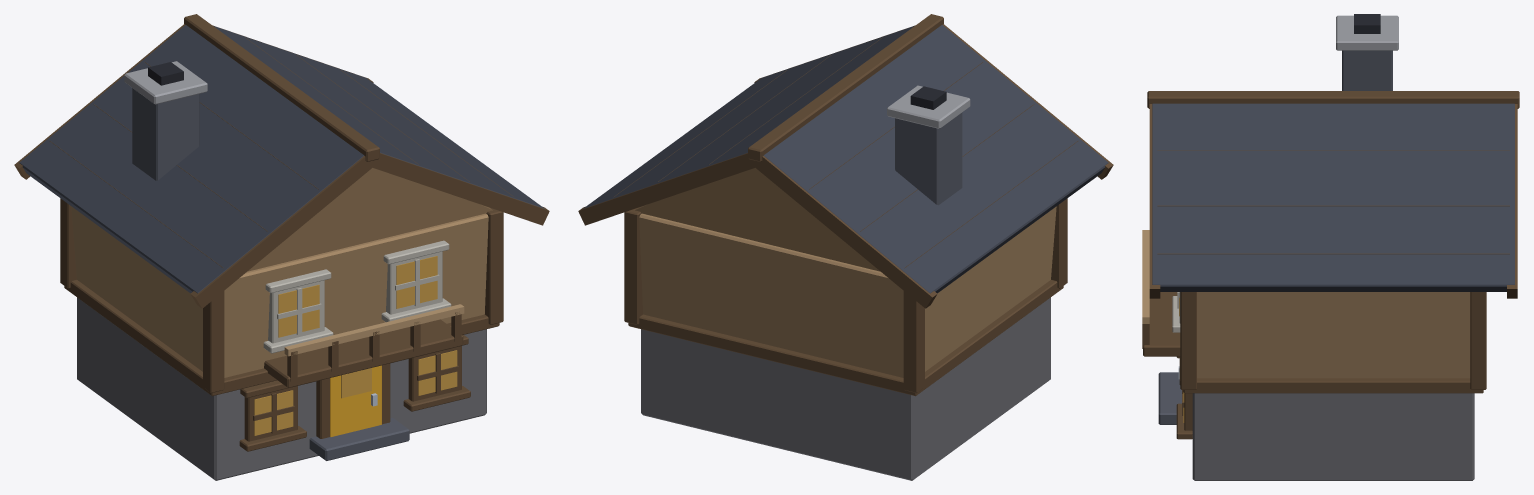
The model's file is Stylized_Building_AlpineChalet.fbx.
3 views of the same model, side by side, from view 1: azimuth 30°, elevation 25°; view 2: azimuth 150°, elevation 25°; view 3: azimuth 270°, elevation 25° (orthographic).
Visible parts, largest first — view 1: Stylized_Building_AlpineChalet; view 2: Stylized_Building_AlpineChalet; view 3: Stylized_Building_AlpineChalet.
Part boxes in pixels (x1,y1,x2,y2): Stylized_Building_AlpineChalet: (14,14,549,480); Stylized_Building_AlpineChalet: (578,14,1113,480); Stylized_Building_AlpineChalet: (1142,14,1519,480).
Size of the model in its own units: 5.53 by 5.08 by 5.03.
